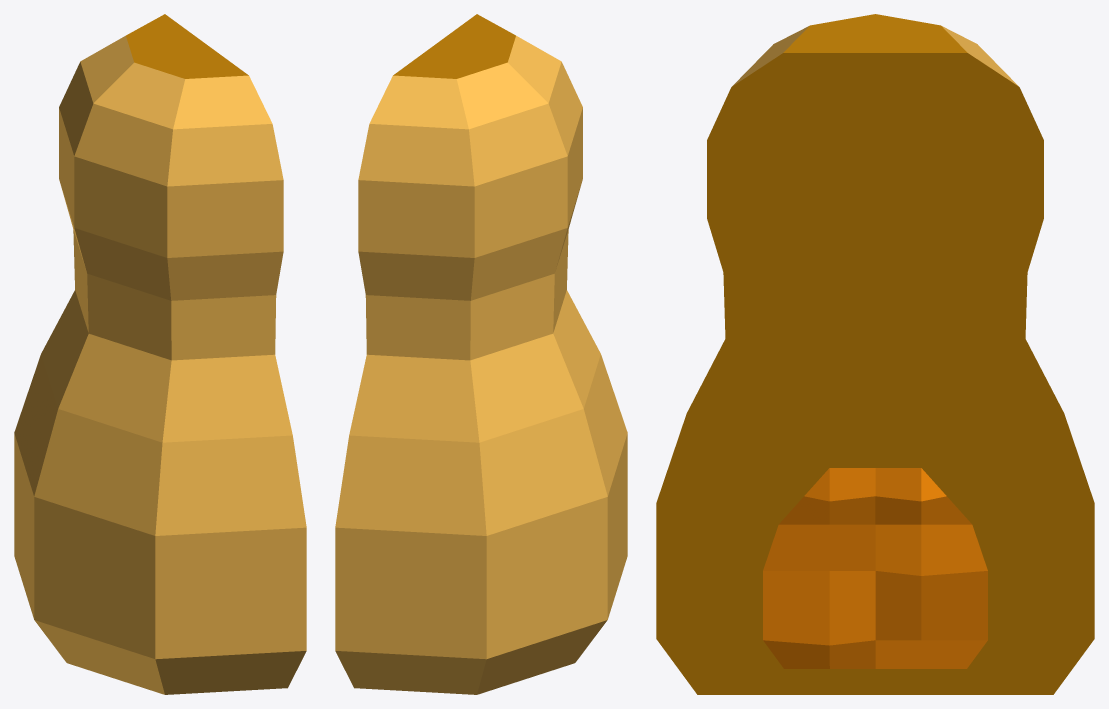
File: buttersquash02.obj
3 renders of one model, left to right at view 1: azimuth 30°, elevation 25°; view 2: azimuth 150°, elevation 25°; view 3: azimuth 270°, elevation 25°, orthographic. The views are drawn at different scales.
Visible parts, largest first — view 1: Cylinder.001; view 2: Cylinder.001; view 3: Cylinder.001.
Boxes of the visible parts, x1,y1,x2,y2 form: Cylinder.001: (14, 14, 306, 694); Cylinder.001: (335, 14, 627, 694); Cylinder.001: (656, 14, 1094, 694).
Size of the model in its own units: 0.0547 by 0.1672 by 0.1035.
Materials: 1 (1 with a texture image).
